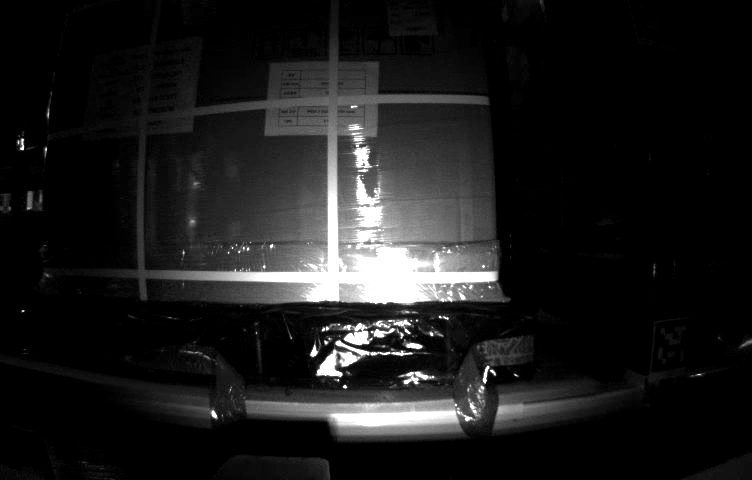True Barcode: (385, 1, 439, 37)
